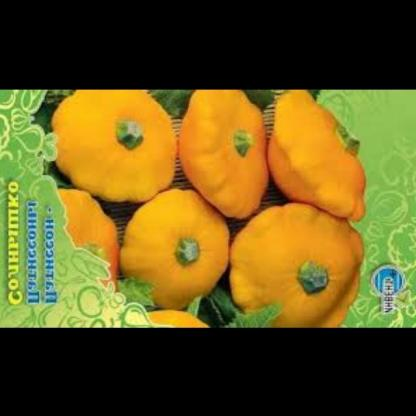squash-patisson: (49, 90, 185, 212), (262, 90, 378, 230), (227, 218, 372, 327), (119, 186, 241, 312), (176, 90, 281, 226), (57, 183, 148, 308)
